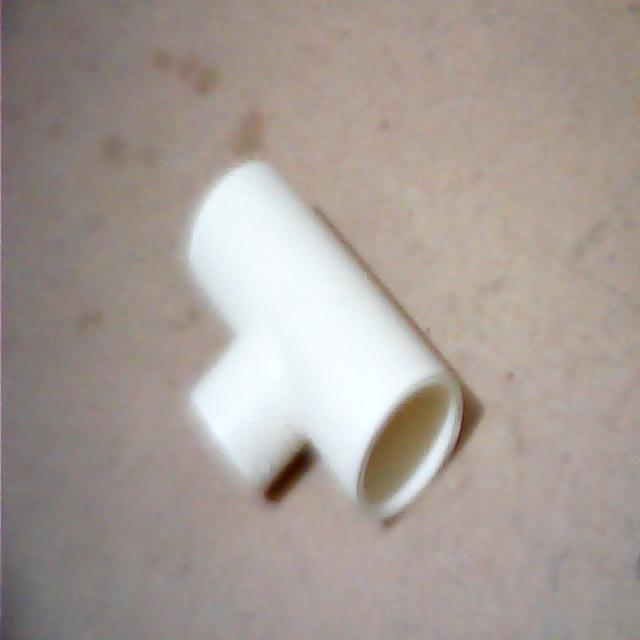T Joint: (184, 160, 480, 528)
